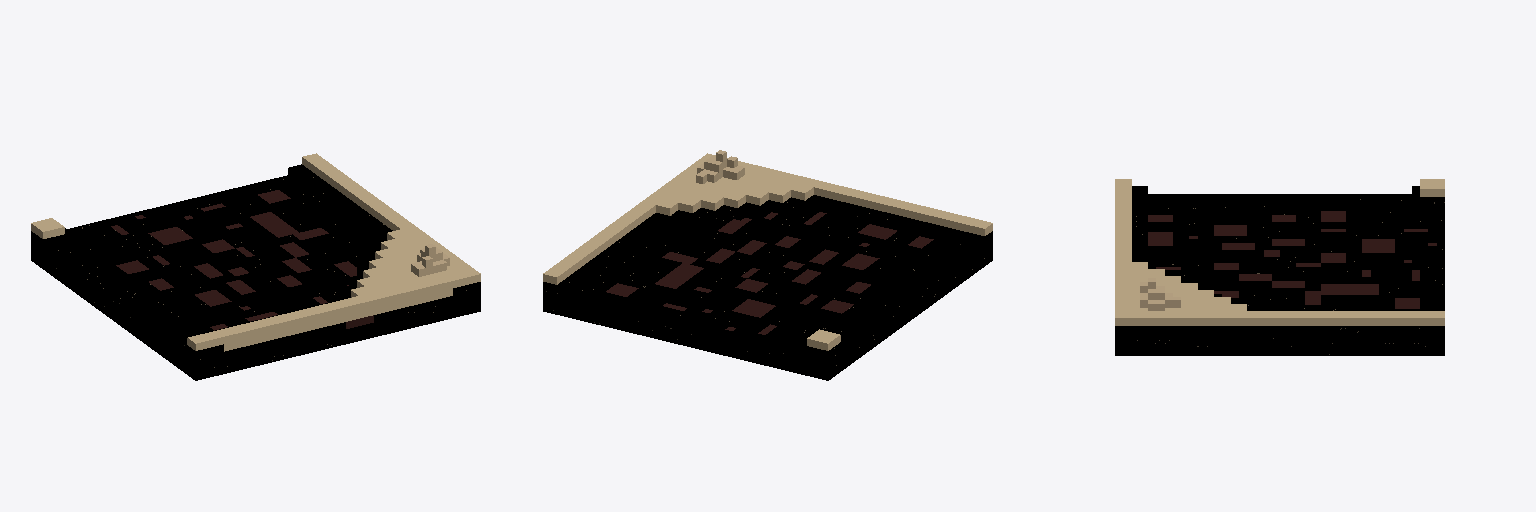
3 renders of one model, left to right at view 1: azimuth 30°, elevation 25°; view 2: azimuth 150°, elevation 25°; view 3: azimuth 270°, elevation 25°, orthographic.
Visible parts, largest first — view 1: object 1; view 2: object 1; view 3: object 1.
Boxes of the visible parts, x1,y1,x2,y2 form: object 1: [31, 153, 480, 380]; object 1: [543, 150, 992, 380]; object 1: [1115, 179, 1444, 355].
Bounding box in the file's own units: 4 × 0.8 × 4.
Materials: 1 (1 with a texture image).